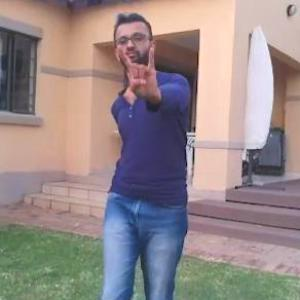takeoff-hand: (116, 38, 161, 103)
